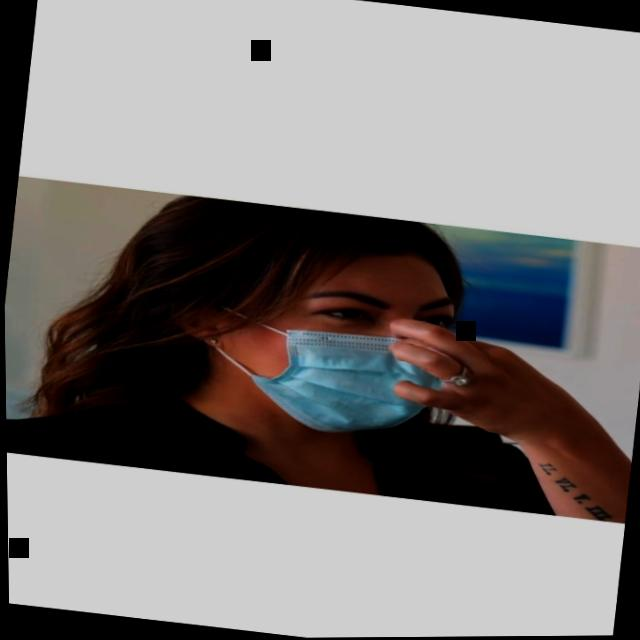Mask: (203, 231, 471, 446)
